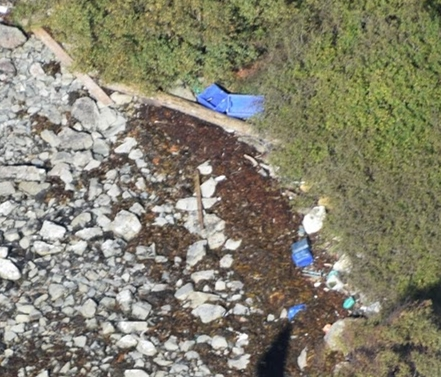straight_bar: (100, 71, 273, 144), (29, 21, 116, 110), (179, 162, 217, 232)
together_barrel: (268, 200, 359, 323)
white_in_green: (172, 48, 302, 144)
